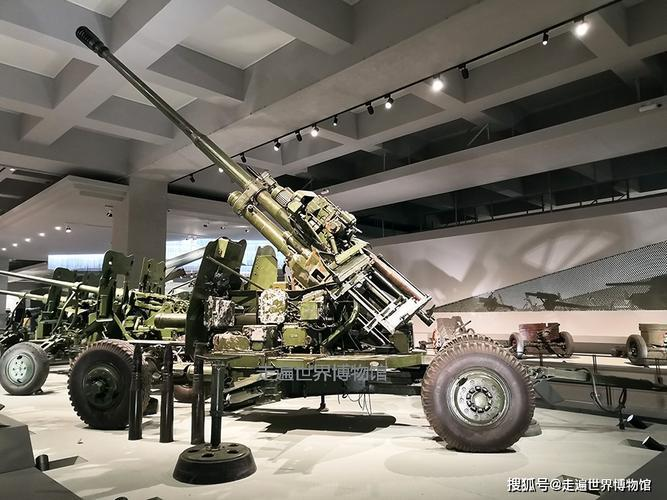MIL_SPG: (77, 27, 534, 451), (68, 343, 158, 429), (159, 345, 173, 406)
